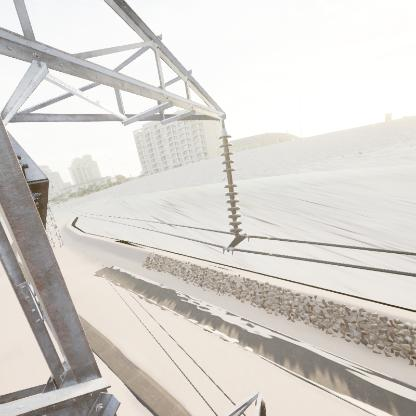insulator: (214, 133, 246, 236)
